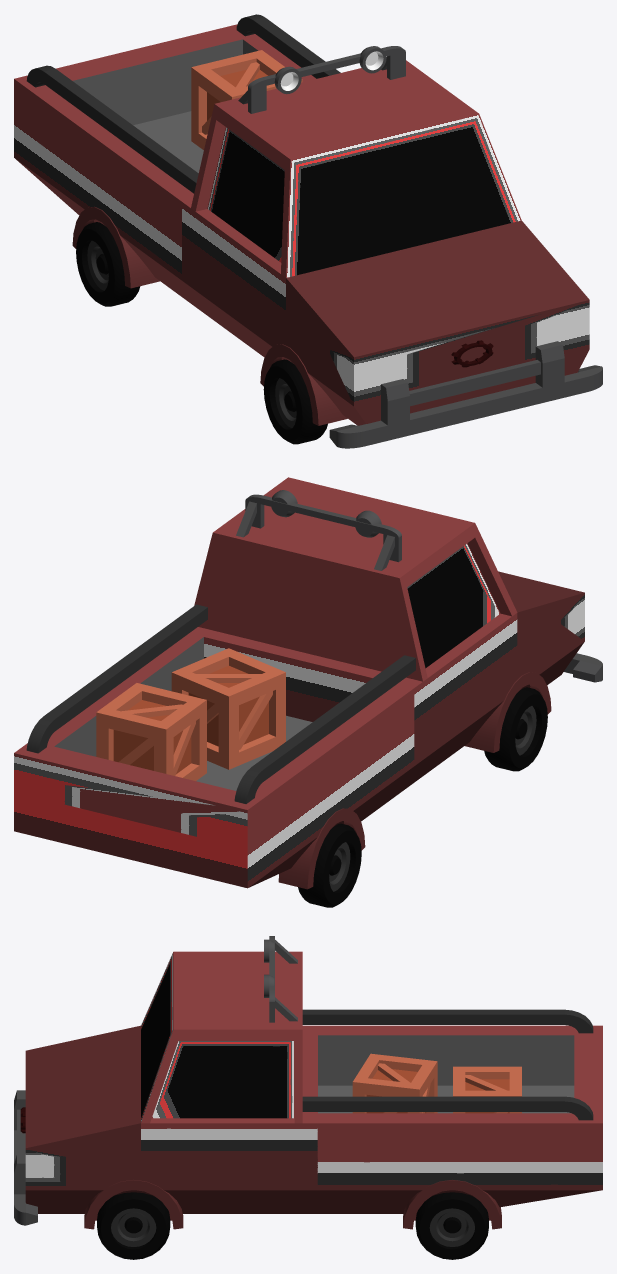
Rendered from pickup.fbx.
3 renders of one model, top to bottom at view 1: azimuth 30°, elevation 25°; view 2: azimuth 150°, elevation 25°; view 3: azimuth 270°, elevation 25°, orthographic. The views are drawn at different scales.
Parts seen in each view (by area): view 1: body_topSteep, body_frontTruckShort, body_backBedClosed, body_standard, bumper_large, wheel_standard (×2), detail_fence_side (×2), detail_crate, wheel_coverStandard (×2), detail_rollbar, detail_light (×2); view 2: body_backBedClosed, body_topSteep, detail_crate (×2), body_standard, detail_fence_side (×2), wheel_standard (×2), body_frontTruckShort, wheel_coverStandard (×2), detail_rollbar, bumper_large; view 3: body_backBedClosed, body_topSteep, body_frontTruckShort, body_standard, detail_fence_side (×2), wheel_standard (×2), detail_crate (×2), wheel_coverStandard (×2), bumper_large, detail_rollbar.
Boxes of the visible parts, bbox=[...] form: body_topSteep: bbox=[191, 60, 521, 277]; body_frontTruckShort: bbox=[286, 220, 589, 425]; body_backBedClosed: bbox=[14, 24, 316, 313]; body_standard: bbox=[182, 199, 288, 360]; bumper_large: bbox=[329, 341, 602, 448]; wheel_standard (×2): bbox=[76, 222, 327, 444]; detail_fence_side (×2): bbox=[26, 14, 340, 193]; detail_crate: bbox=[191, 50, 302, 150]; wheel_coverStandard (×2): bbox=[72, 206, 347, 425]; detail_rollbar: bbox=[238, 46, 405, 113]; detail_light (×2): bbox=[274, 46, 386, 94]; body_backBedClosed: bbox=[14, 633, 414, 888]; body_topSteep: bbox=[194, 477, 517, 681]; detail_crate (×2): bbox=[96, 648, 285, 780]; body_standard: bbox=[189, 613, 517, 799]; detail_fence_side (×2): bbox=[26, 604, 415, 803]; wheel_standard (×2): bbox=[298, 687, 547, 907]; body_frontTruckShort: bbox=[498, 571, 584, 689]; wheel_coverStandard (×2): bbox=[278, 672, 551, 889]; detail_rollbar: bbox=[236, 494, 401, 570]; bumper_large: bbox=[564, 653, 602, 682]; body_backBedClosed: bbox=[317, 1025, 602, 1213]; body_topSteep: bbox=[141, 951, 302, 1123]; body_frontTruckShort: bbox=[25, 1025, 140, 1213]; body_standard: bbox=[141, 1025, 317, 1213]; detail_fence_side (×2): bbox=[302, 1009, 593, 1120]; wheel_standard (×2): bbox=[97, 1192, 488, 1259]; detail_crate (×2): bbox=[352, 1053, 521, 1113]; wheel_coverStandard (×2): bbox=[84, 1180, 501, 1229]; bumper_large: bbox=[14, 1090, 37, 1225]; detail_rollbar: bbox=[269, 936, 297, 1022].
Size of the model in its own units: 11.26 by 12.04 by 25.5.
1 material, 1 textured.
